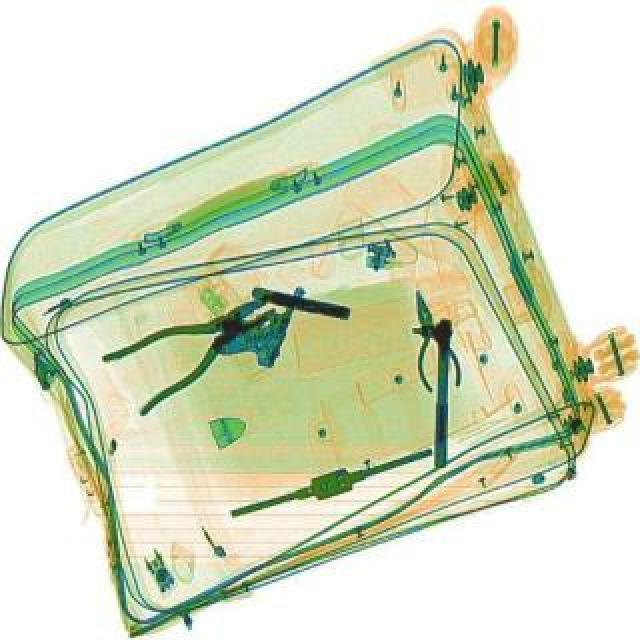gun: (216, 266, 310, 370), (250, 282, 354, 318)
wrench: (100, 268, 292, 416), (394, 282, 466, 390)
